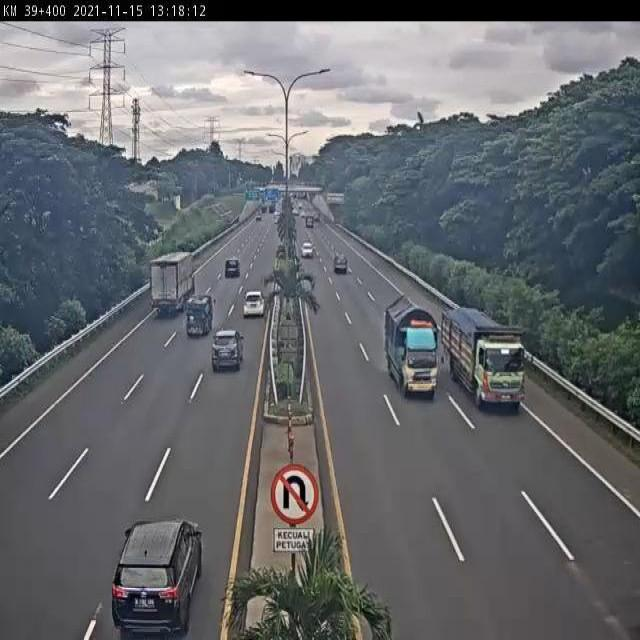car: (112, 514, 205, 640), (211, 328, 245, 373), (243, 289, 268, 319)
truck-l-: (442, 301, 528, 411), (152, 251, 196, 316)
truck-m-: (386, 295, 440, 397), (184, 292, 215, 336)
